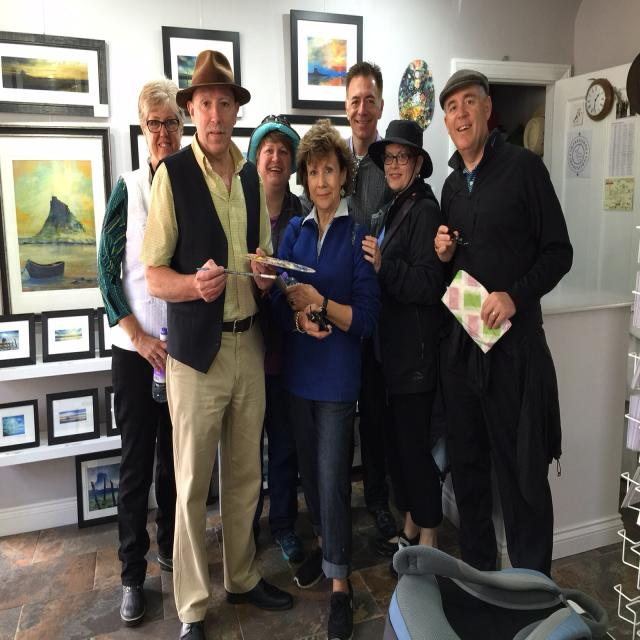body: (137, 46, 297, 639), (429, 64, 576, 581), (265, 116, 383, 638), (95, 75, 188, 626), (362, 119, 444, 558), (338, 61, 399, 540), (246, 113, 306, 564)
